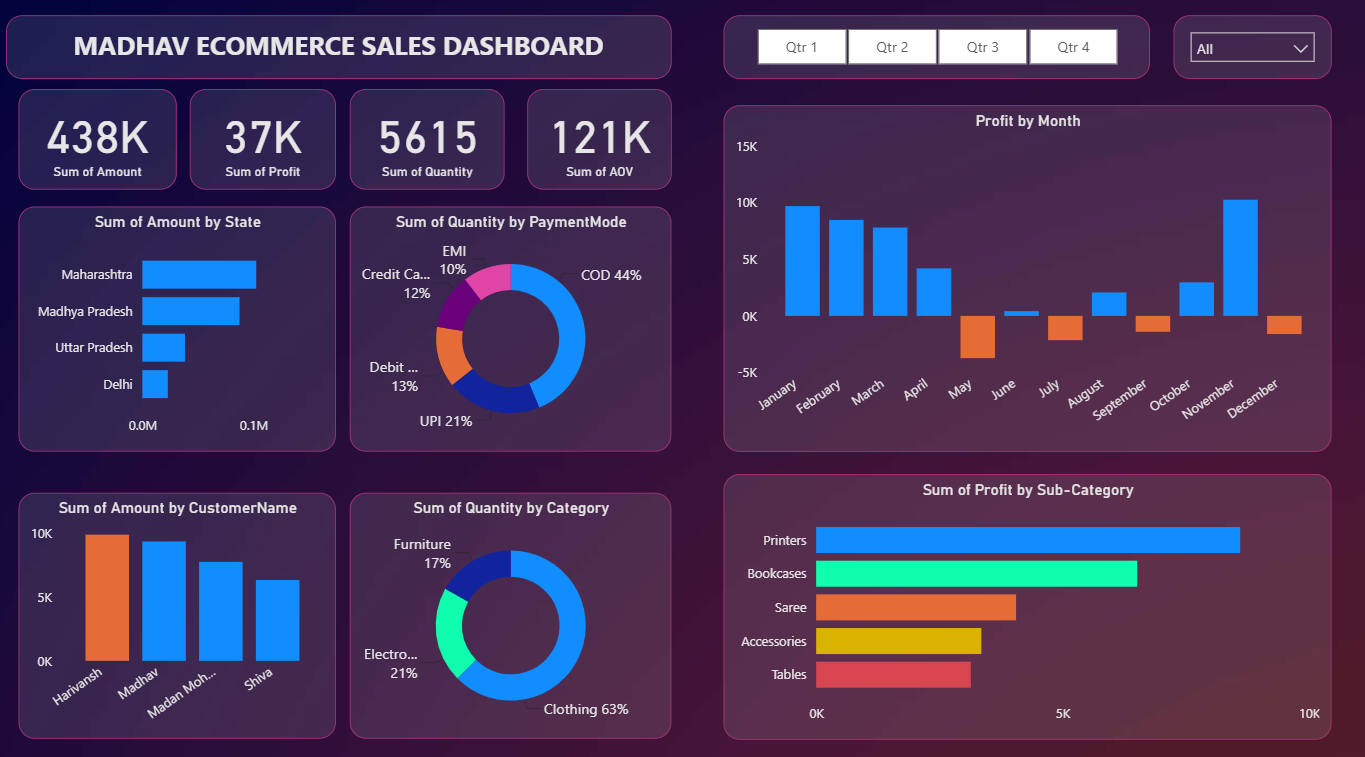

This screenshot's page, from the dashboard's own definition file:
{"tool":"powerbi","page":{"name":"Page 1","canvas":[1280,720],"ordinal":0},"visuals":[{"type":"textbox","box":[9.6,19.2,618.9,59],"z":0},{"type":"columnChart","title":"Profit by Month","fields":{"Y":["Sum(Details.Profit)"],"Category":["Orders.Order Date.Variation.Date Hierarchy.Month"]},"box":[676.5,102.9,565.4,322.5],"z":1000},{"type":"barChart","fields":{"Category":["Details.Sub-Category"],"Y":["Sum(Details.Profit)"]},"box":[676.5,446,565.4,247],"z":2000},{"type":"donutChart","fields":{"Category":["Details.Category"],"Y":["Sum(Details.Quantity)"]},"box":[329.3,463.8,299.1,229.2],"z":3000},{"type":"donutChart","fields":{"Y":["Sum(Details.Quantity)"],"Category":["Details.PaymentMode"]},"box":[329.3,197.6,299.1,227.8],"z":4000},{"type":"card","fields":{"Values":["Sum(Details.Amount)"]},"box":[20.6,87.8,146.8,93.3],"z":5000},{"type":"card","fields":{"Values":["Sum(Details.Quantity)"]},"box":[329.3,87.8,144.1,93.3],"z":6000},{"type":"card","fields":{"Values":["Sum(Details.Profit)"]},"box":[179.8,87.8,135.8,93.3],"z":7000},{"type":"card","fields":{"Values":["Sum(Details.AOV)"]},"box":[494,87.8,134.5,93.3],"z":8000},{"type":"barChart","fields":{"Category":["Orders.State"],"Y":["Sum(Details.Amount)"]},"box":[20.6,197.6,295,227.8],"z":9000},{"type":"columnChart","fields":{"Category":["Orders.CustomerName"],"Y":["Sum(Details.Amount)"]},"box":[20.6,463.8,295,229.2],"z":10000},{"type":"slicer","fields":{"Values":["Orders.Order Date.Variation.Date Hierarchy.Quarter"]},"box":[676.5,19.2,396.6,59],"z":11000},{"type":"slicer","fields":{"Values":["Orders.State"]},"box":[1095,19.2,146.8,59],"z":12000}]}

Visuals, with their boxes in screenshot pixels (x1, y1, x2, y2), scaled from the page's 1280x720 canvas onto the 1365x757 screenshot:
textbox: bbox=[10, 20, 670, 82]
"Profit by Month" columnChart: bbox=[721, 108, 1324, 447]
barChart - Details.Sub-Category x Sum(Details.Profit): bbox=[721, 469, 1324, 729]
donutChart - Details.Category x Sum(Details.Quantity): bbox=[351, 488, 670, 729]
donutChart - Sum(Details.Quantity) x Details.PaymentMode: bbox=[351, 208, 670, 447]
card - Sum(Details.Amount): bbox=[22, 92, 179, 190]
card - Sum(Details.Quantity): bbox=[351, 92, 505, 190]
card - Sum(Details.Profit): bbox=[192, 92, 337, 190]
card - Sum(Details.AOV): bbox=[527, 92, 670, 190]
barChart - Orders.State x Sum(Details.Amount): bbox=[22, 208, 337, 447]
columnChart - Orders.CustomerName x Sum(Details.Amount): bbox=[22, 488, 337, 729]
slicer - Orders.Order Date.Variation.Date Hierarchy.Quarter: bbox=[721, 20, 1144, 82]
slicer - Orders.State: bbox=[1168, 20, 1324, 82]
